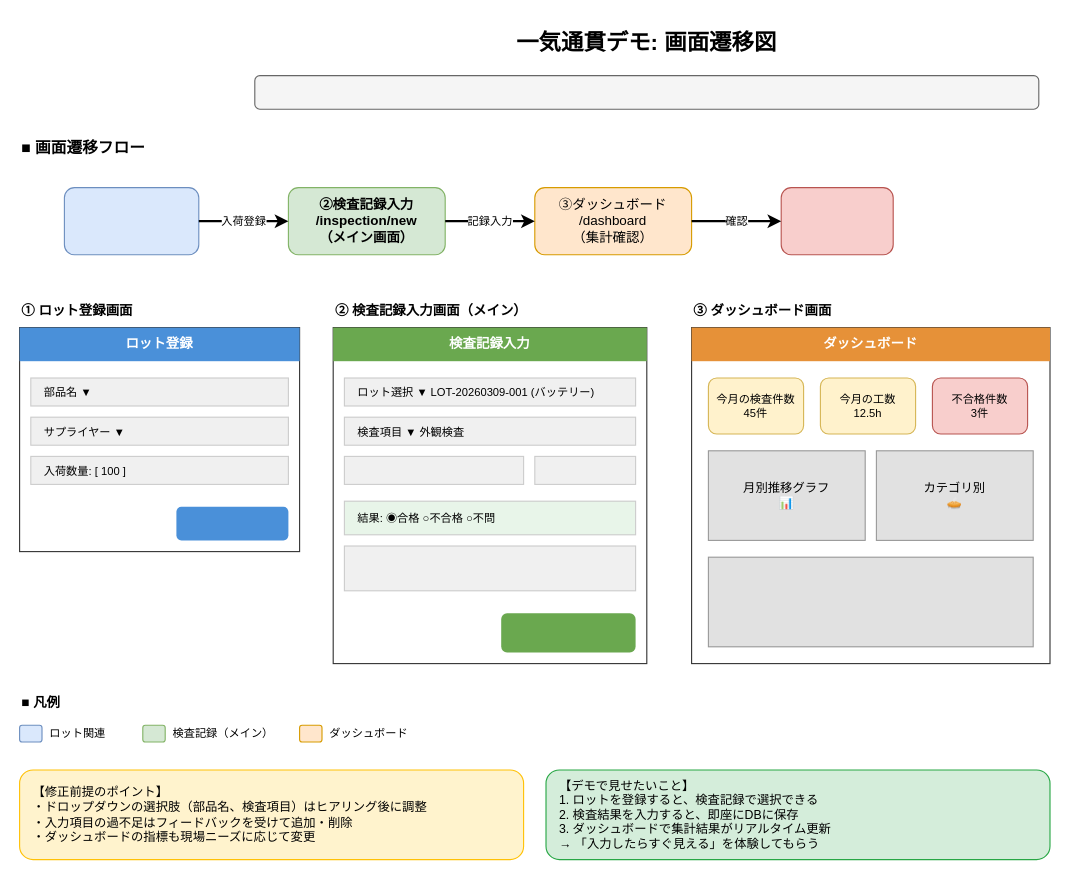
The diagram is 1070 pixels wide and 879 high, and some of its shapes have lost their labels. Each missing label, with the centre of its shape:
"①ロット登録 /lots/new" belongs at point (131, 220).
"デモシナリオ: 「部品が入荷 → 検査を実施 → 記録を入力 → ダッシュボードで確認」" belongs at point (646, 91).
"トップ/一覧 /" belongs at point (836, 220).
"作業者 ▼ 杉山" belongs at point (433, 469).
"備考: [________________]" belongs at point (489, 568).
"品名別パレート図 📈" belongs at point (870, 601).
"工数: [30] 分" belongs at point (585, 469).
"登録" belongs at point (232, 523).
"記録を登録" belongs at point (568, 632).
